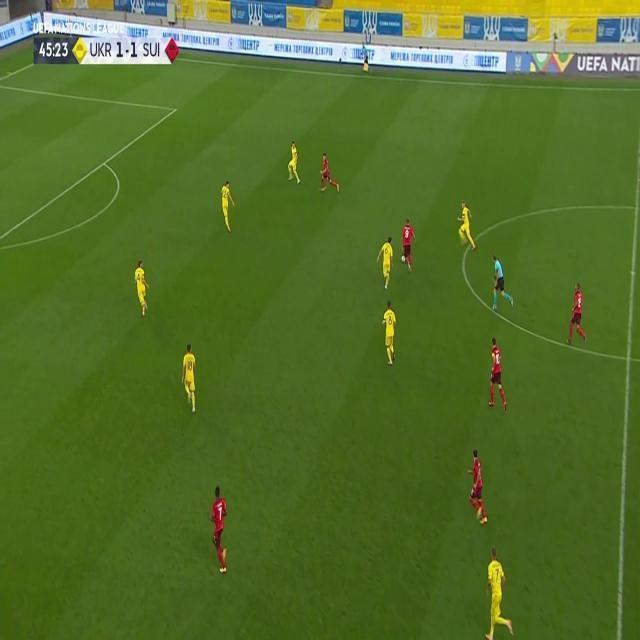ball: (401, 253, 406, 263)
player: (481, 547, 516, 640), (206, 486, 230, 574), (466, 447, 489, 525), (486, 338, 509, 411), (565, 281, 588, 346), (181, 343, 198, 413), (456, 199, 478, 251), (381, 301, 397, 366), (133, 258, 150, 318), (376, 236, 393, 291), (318, 151, 339, 195), (219, 179, 236, 233), (403, 218, 416, 273), (286, 140, 301, 184)
referee: (490, 254, 513, 310), (361, 42, 370, 75)
